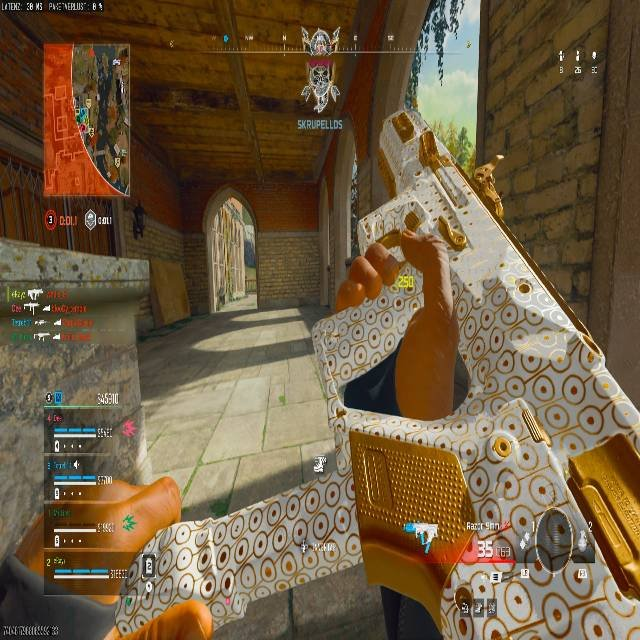head: (413, 182, 439, 209), (310, 66, 321, 81)
player: (311, 65, 333, 115), (131, 203, 145, 238)
